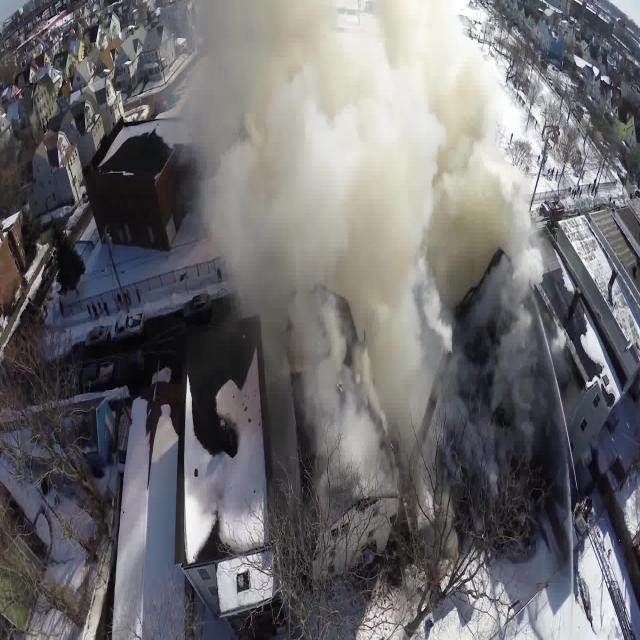Smoke: (177, 0, 542, 448)
